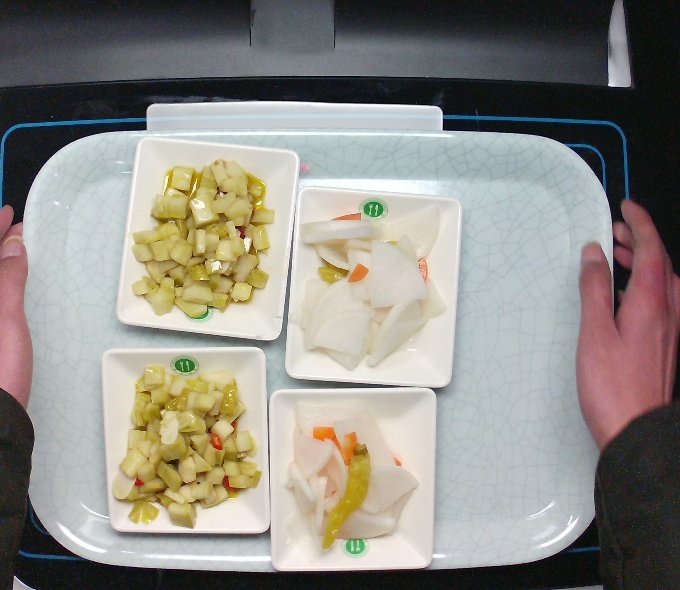wcq-LuLuoBo: (296, 203, 450, 379), (279, 394, 422, 548)
wcq-TangCuOu: (115, 355, 266, 533), (129, 157, 280, 321)
